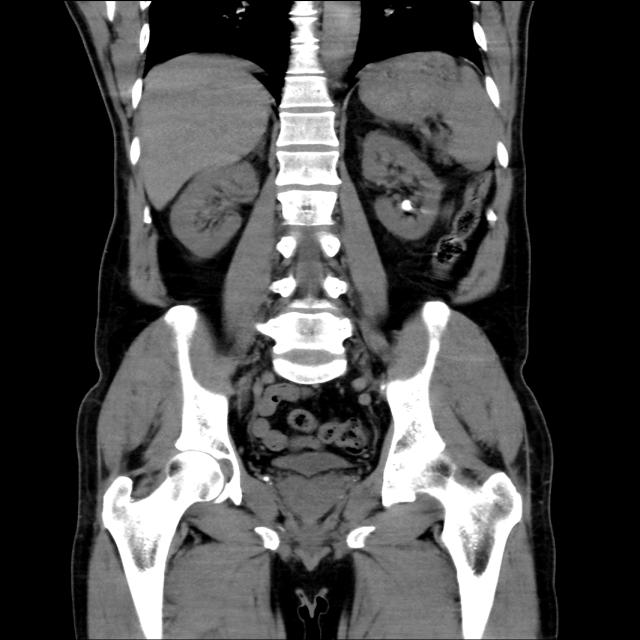kidneystone: (400, 199, 413, 211)
